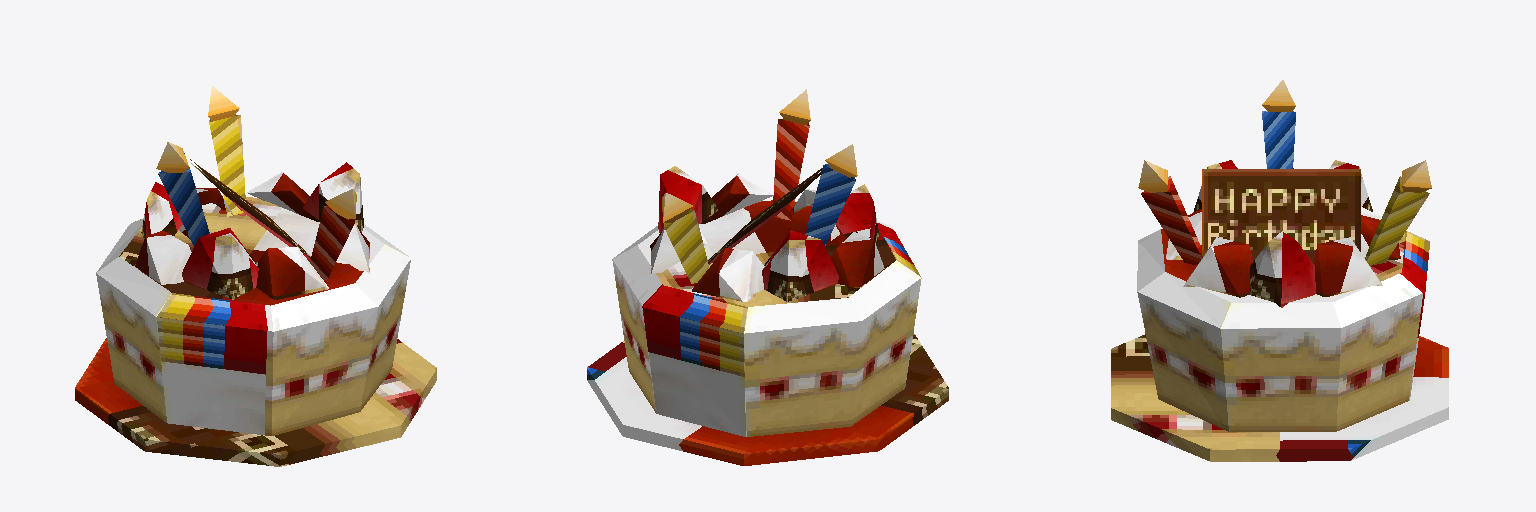
3 renders of one model, left to right at view 1: azimuth 30°, elevation 25°; view 2: azimuth 150°, elevation 25°; view 3: azimuth 270°, elevation 25°, orthographic.
Visible parts, largest first — view 1: _0_0_node; view 2: _0_0_node; view 3: _0_0_node.
Boxes of the visible parts, <box> form: _0_0_node: <box>75,86,436,466</box>; _0_0_node: <box>587,89,948,465</box>; _0_0_node: <box>1111,80,1448,461</box>.
Bounding box in the file's own units: 1.71 × 1.5 × 1.71.
Materials: 1 (1 with a texture image).